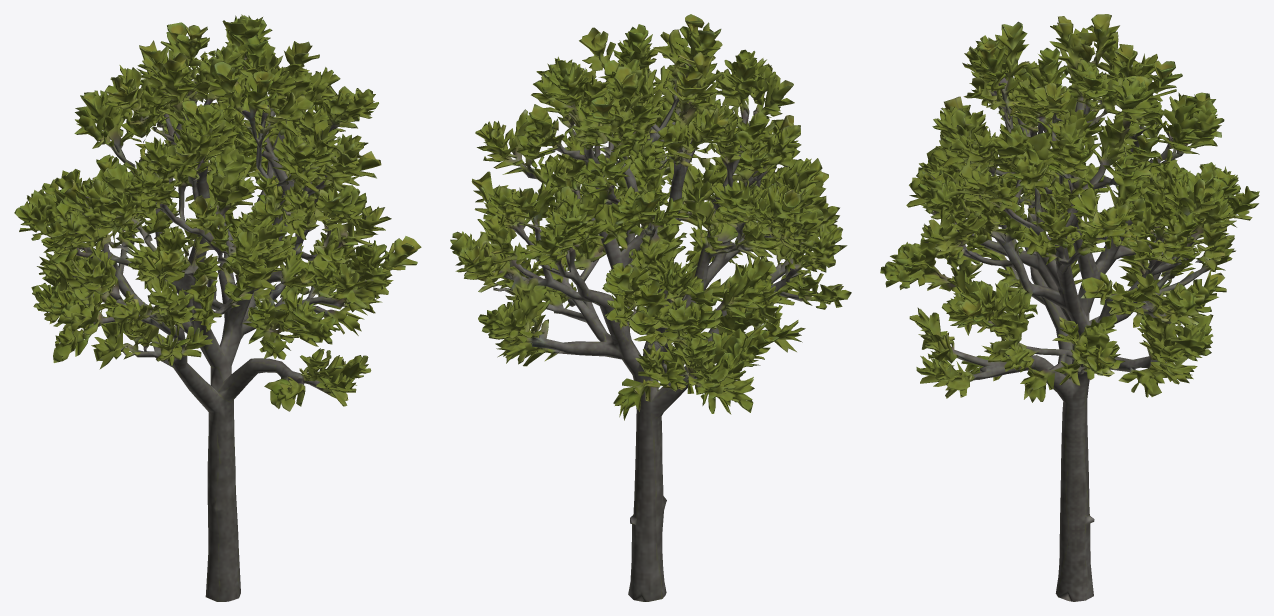
The model's file is tree_12_oak_green.glb.
3 views of the same model, side by side, from view 1: azimuth 30°, elevation 25°; view 2: azimuth 150°, elevation 25°; view 3: azimuth 270°, elevation 25° (orthographic).
Parts seen in each view (by area): view 1: world; view 2: world; view 3: world.
Part boxes in pixels (box(x1,y1,x2,y2)): world: box(14, 14, 421, 601); world: box(450, 14, 851, 601); world: box(880, 14, 1259, 601).
Bounding box in the file's own units: 0.659 × 1 × 0.6203.
Materials: 1 (1 with a texture image).
